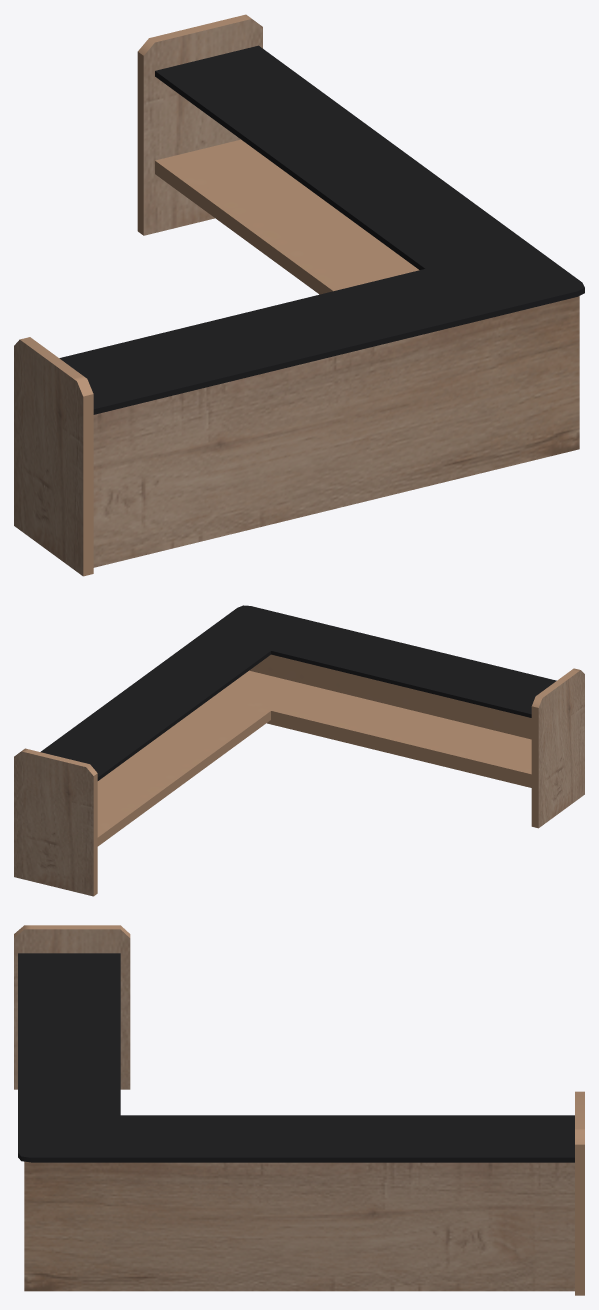
Rendered from loan_desk_2nd.fbx.
The picture shows the model from 3 angles, top to bottom: view 1: azimuth 30°, elevation 25°; view 2: azimuth 150°, elevation 25°; view 3: azimuth 270°, elevation 25°; orthographic projection. The views are drawn at different scales.
Visible parts, largest first — view 1: loan_desk_2nd; view 2: loan_desk_2nd; view 3: loan_desk_2nd.
Boxes of the visible parts, bbox=[...] form: loan_desk_2nd: bbox=[14, 14, 584, 576]; loan_desk_2nd: bbox=[14, 605, 584, 896]; loan_desk_2nd: bbox=[14, 925, 584, 1295].
Bounding box in the file's own units: 0.0232 × 0.00824 × 0.0266.
1 material, 1 textured.
